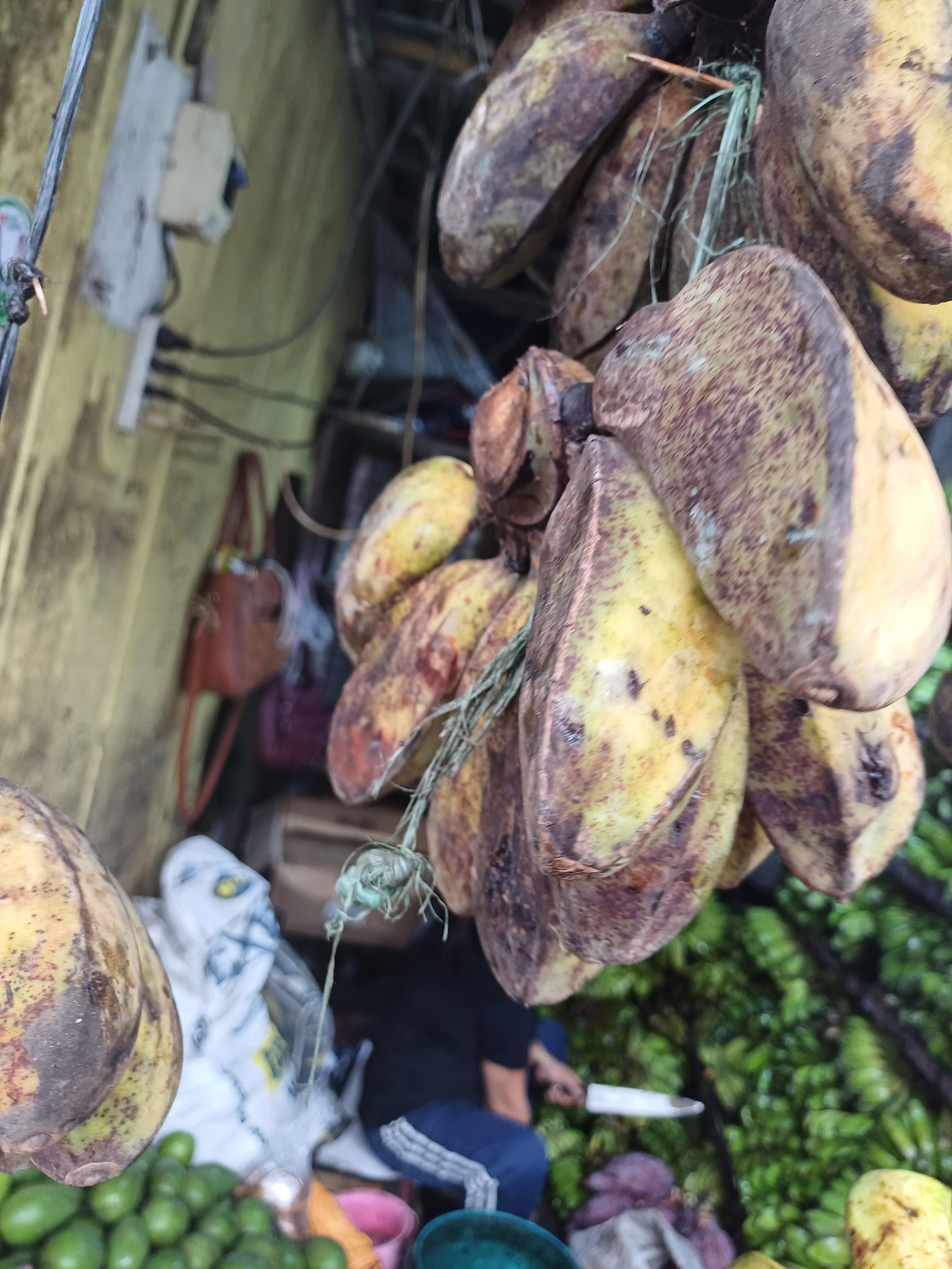ripe: (437, 0, 952, 425)
underripe: (328, 246, 952, 1005)
